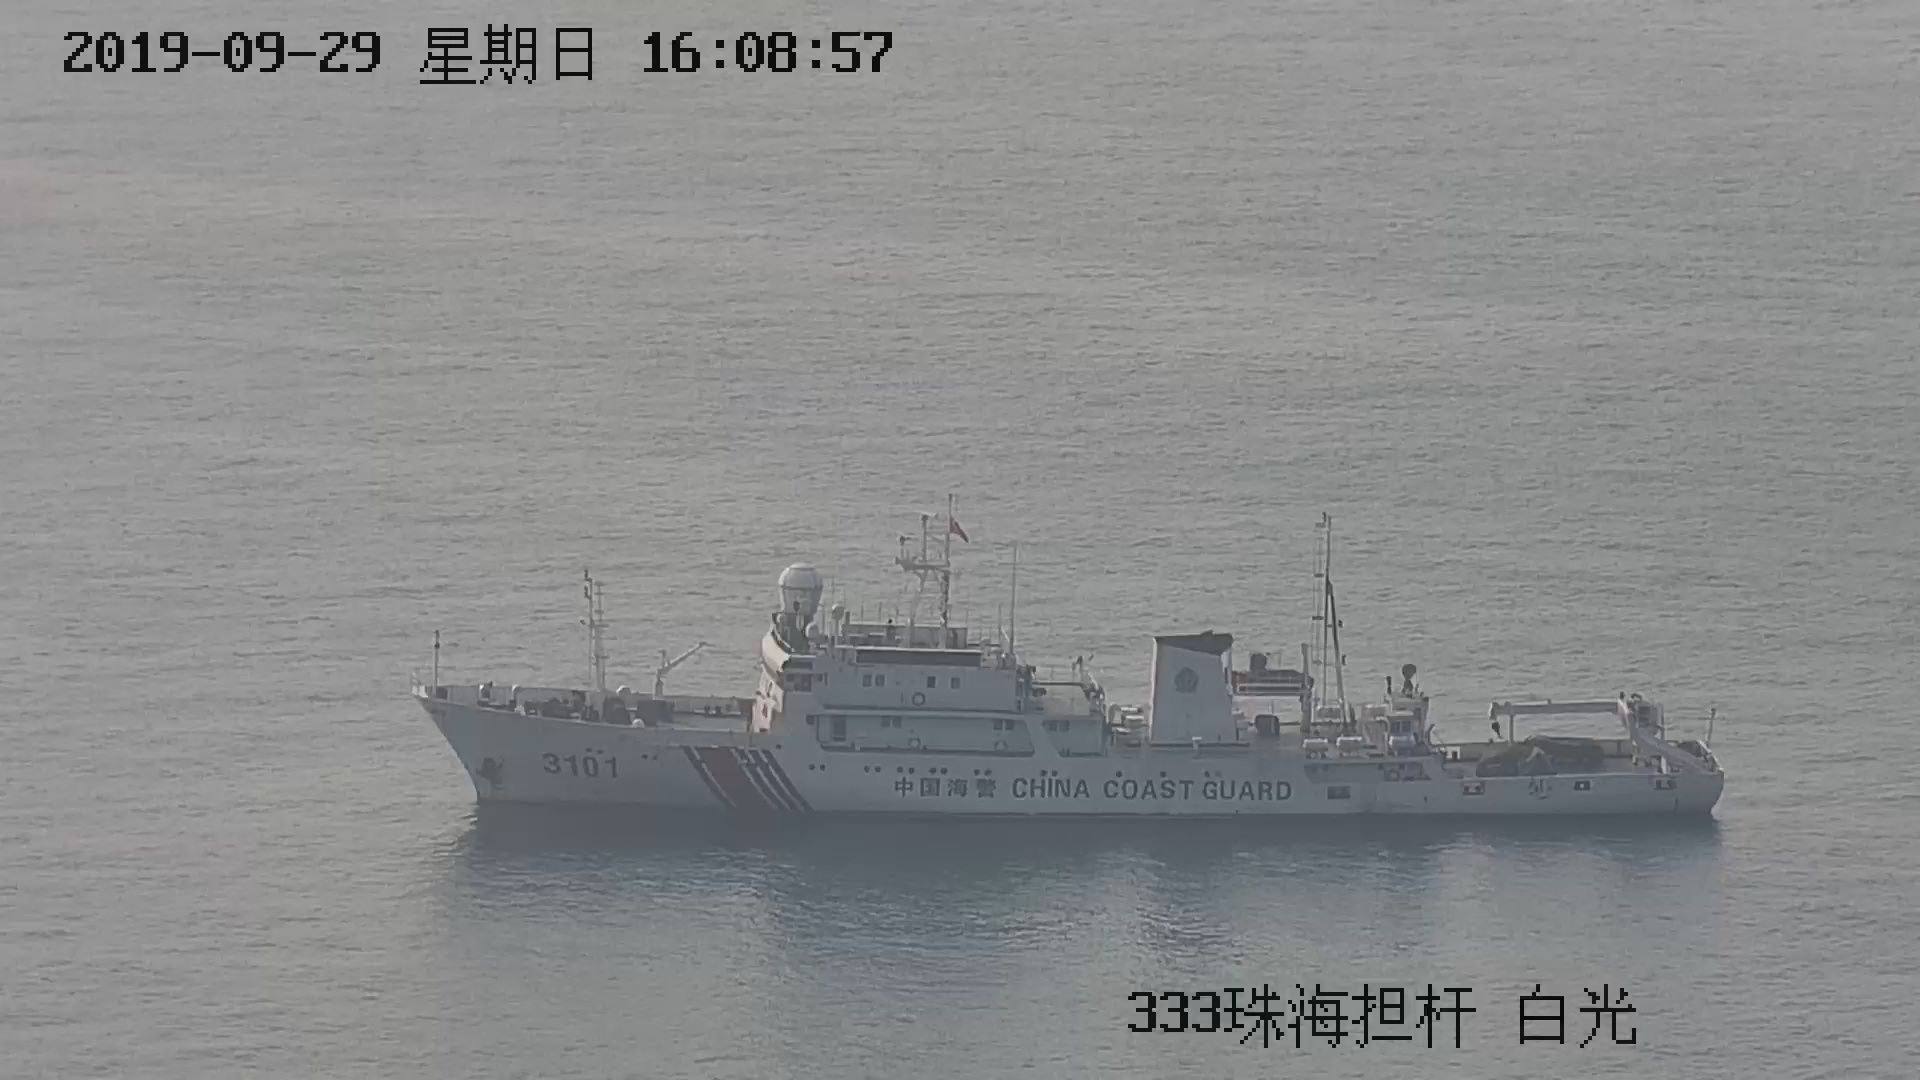ship: (404, 460, 1730, 825)
